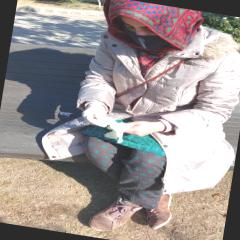gloved: (83, 101, 115, 129)
not-gloved: (122, 116, 166, 140)
